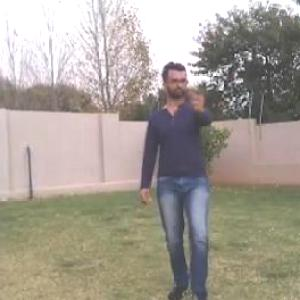takeoff-hand: (188, 78, 214, 114)
